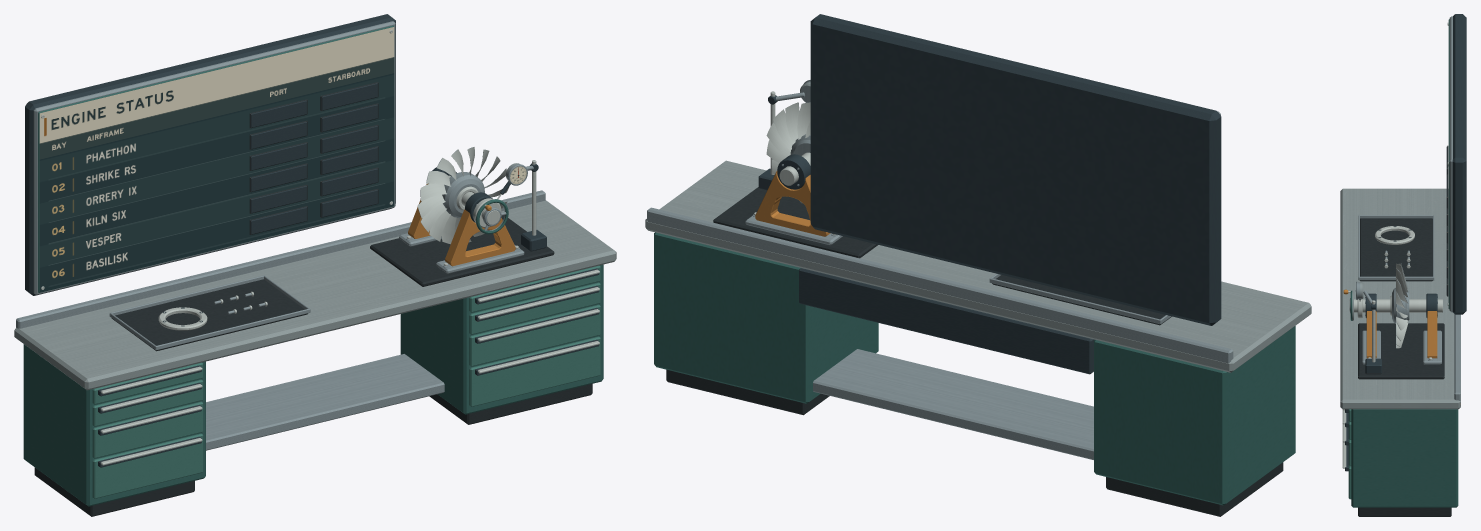
Rendered from inspection_station.glb.
3 renders of one model, left to right at view 1: azimuth 30°, elevation 25°; view 2: azimuth 150°, elevation 25°; view 3: azimuth 270°, elevation 25°, orthographic. The views are drawn at different scales.
Parts seen in each view (by area): view 1: InspectionBench, PanelLegends, RotatingAssembly; view 2: InspectionBench, RotatingAssembly; view 3: InspectionBench, RotatingAssembly.
Boxes of the visible parts, x1,y1,x2,y2 form: InspectionBench: (14,14,616,516); PanelLegends: (39,27,526,292); RotatingAssembly: (417,147,508,244); InspectionBench: (645,14,1311,516); RotatingAssembly: (766,102,810,203); InspectionBench: (1340,14,1466,516); RotatingAssembly: (1343,263,1442,348).
Bounding box in the file's own units: 3.6 × 2.39 × 0.901.
Materials: 2 (2 with a texture image).
